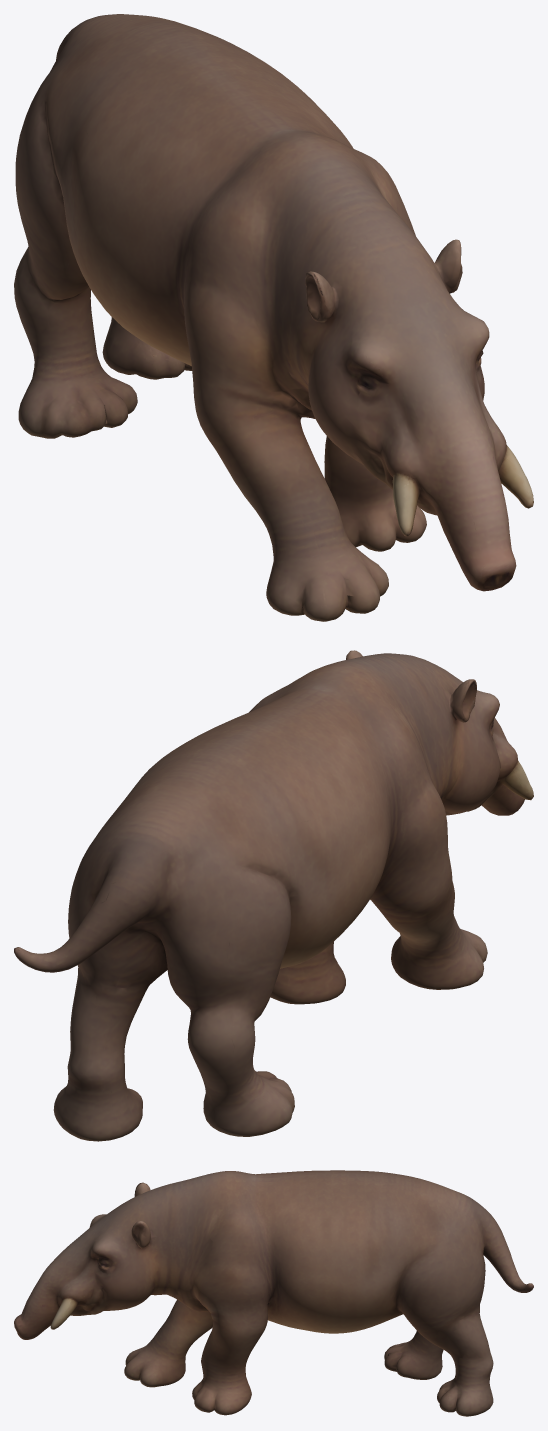
3 views of the same model, one above another, from view 1: azimuth 30°, elevation 25°; view 2: azimuth 150°, elevation 25°; view 3: azimuth 270°, elevation 25° (orthographic). The views are drawn at different scales.
Parts seen in each view (by area): view 1: world; view 2: world; view 3: world.
Boxes of the visible parts, x1,y1,x2,y2 form: world: (14,14,533,621); world: (14,650,533,1141); world: (14,1170,533,1416).
Bounding box in the file's own units: 0.9762 × 1.47 × 3.2.
Materials: 1 (1 with a texture image).
